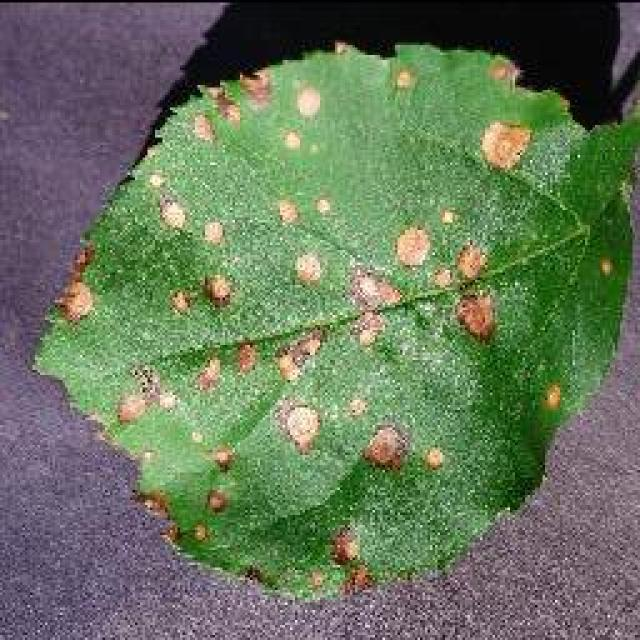Black_rot: (28, 38, 638, 600)
